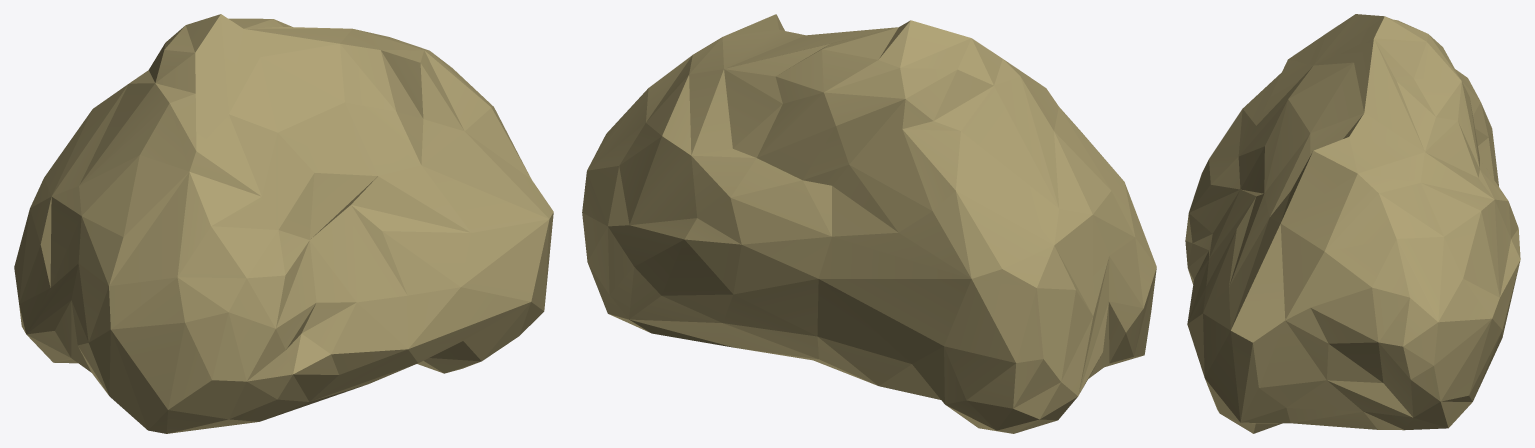
File: SM_rock_67.fbx
3 renders of one model, left to right at view 1: azimuth 30°, elevation 25°; view 2: azimuth 150°, elevation 25°; view 3: azimuth 270°, elevation 25°, orthographic. The views are drawn at different scales.
Visible parts, largest first — view 1: rock_67; view 2: rock_67; view 3: rock_67.
Part boxes in pixels (box(x1,y1,x2,y2)): rock_67: box(14, 14, 553, 433); rock_67: box(582, 14, 1156, 433); rock_67: box(1185, 14, 1520, 433).
Size of the model in its own units: 212 by 151 by 138.
